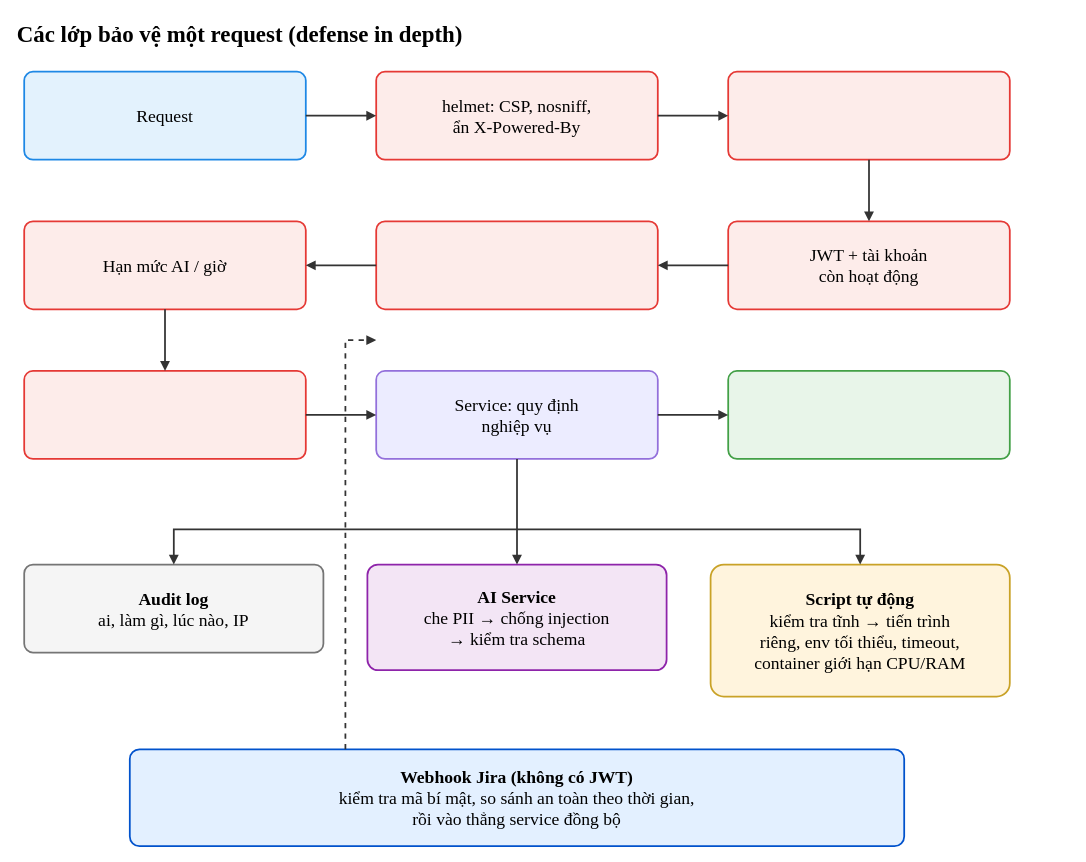
This 1086x862 diagram has some shape labels left out. Here are the shapes that lost their labels. From the top down, the centre of each, then its label:
pixel 868 115: Body ≤ 1 MB
pixel 516 265: RBAC theo quyền
pixel 164 414: Zod schema
pixel 868 414: Prepared statement
